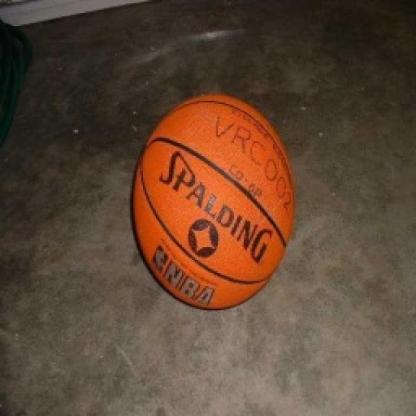basketball: (129, 85, 303, 315)
